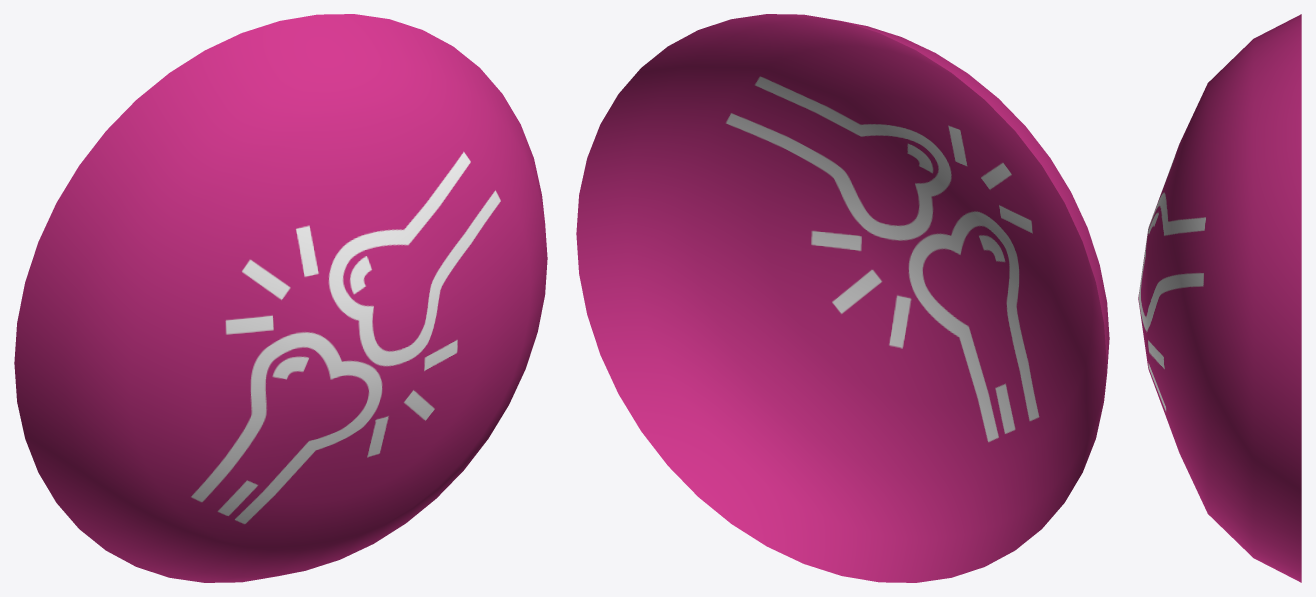
The model's file is Icon_calcio_huesos.glb.
3 views of the same model, side by side, from view 1: azimuth 30°, elevation 25°; view 2: azimuth 150°, elevation 25°; view 3: azimuth 270°, elevation 25° (orthographic). The views are drawn at different scales.
Parts seen in each view (by area): view 1: Cylinder.004; view 2: Cylinder.004; view 3: Cylinder.004.
Boxes of the visible parts, left/top/right/bottom form: Cylinder.004: left=14, top=14, right=547, bottom=582; Cylinder.004: left=576, top=14, right=1109, bottom=582; Cylinder.004: left=1138, top=14, right=1301, bottom=582.
Bounding box in the file's own units: 0.0859 × 0.0859 × 0.0247.
1 material, 1 textured.
